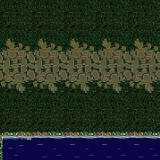Interaction: (0, 120, 160, 142)
Slow: (0, 139, 160, 160)
